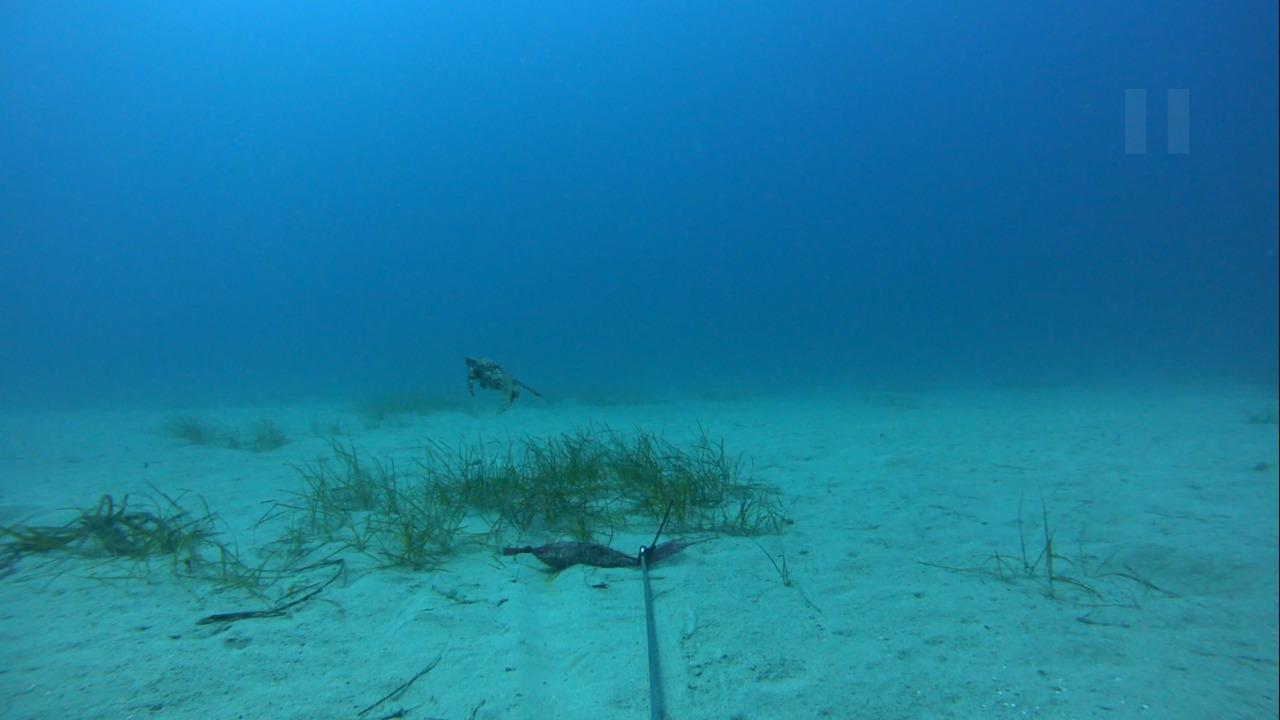dactylopterus: (448, 348, 553, 414)
